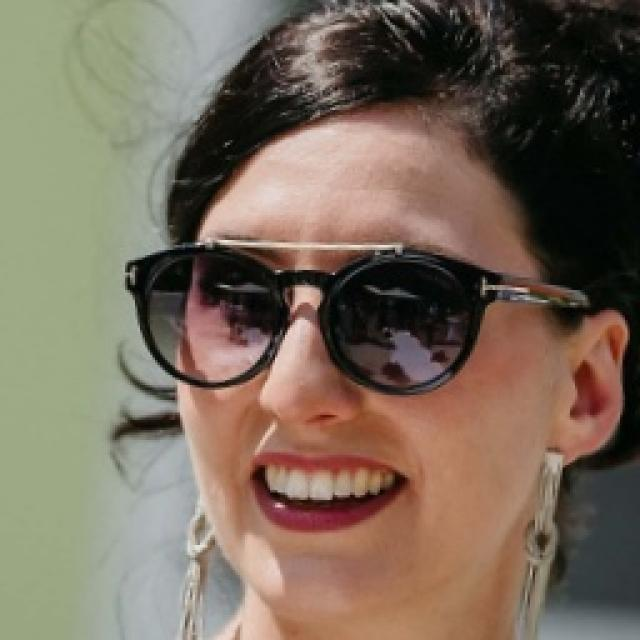glasses: (114, 226, 538, 400)
